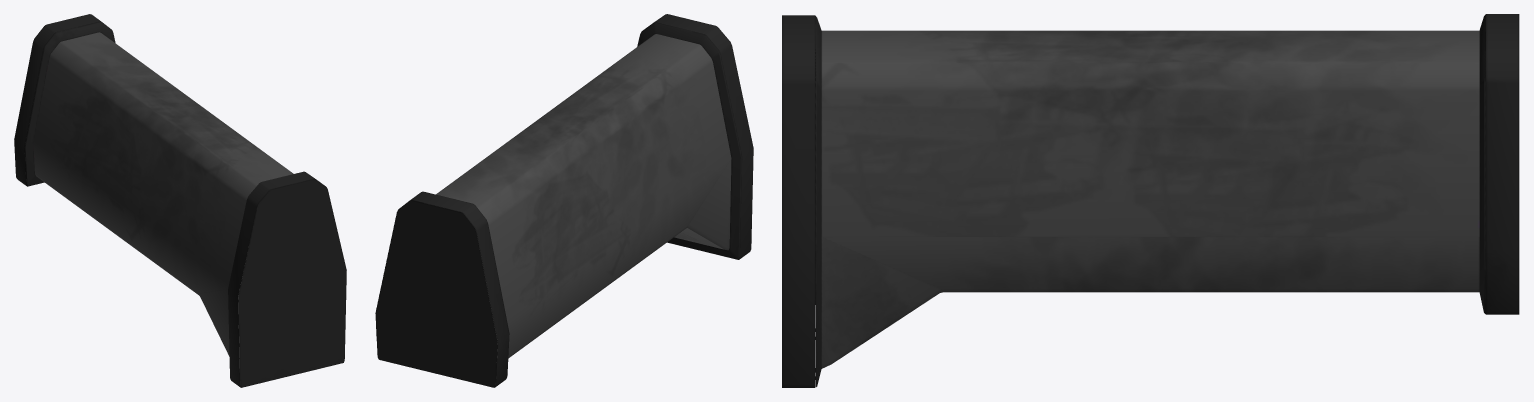
Rendered from Rifle_MT01_Body.fbx.
The picture shows the model from 3 angles, left to right: view 1: azimuth 30°, elevation 25°; view 2: azimuth 150°, elevation 25°; view 3: azimuth 270°, elevation 25°; orthographic projection. The views are drawn at different scales.
Visible parts, largest first — view 1: Receiver.002; view 2: Receiver.002; view 3: Receiver.002.
Part boxes in pixels (box(x1,y1,x2,y2)): Receiver.002: box(14, 14, 346, 387); Receiver.002: box(375, 14, 753, 387); Receiver.002: box(782, 14, 1519, 387).
Size of the model in its own units: 12.23 by 20.61 by 43.72.
